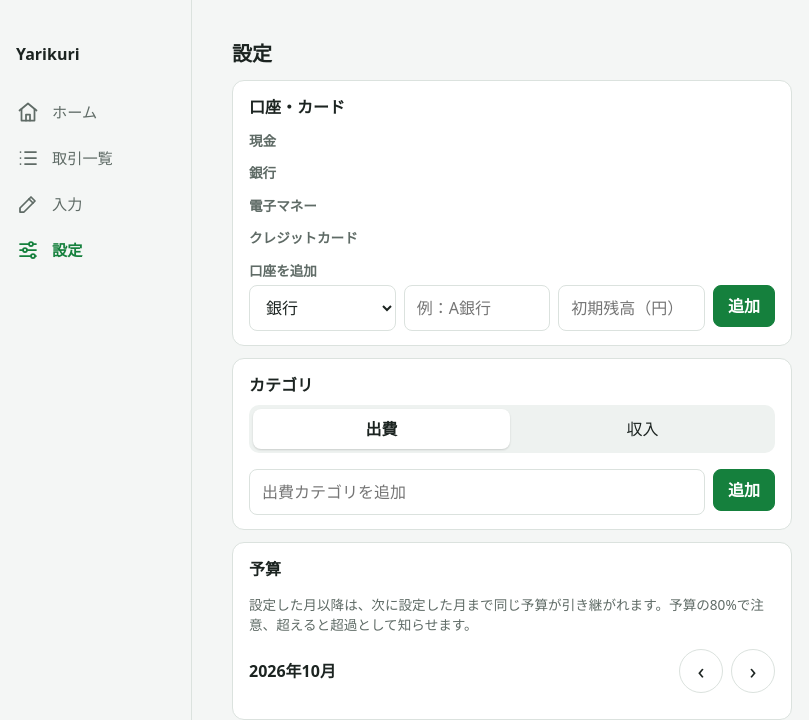
口座管理 › 名前が空の口座は登録できない
Click the 1st button "追加" at (744, 306), box [713,285,775,327]
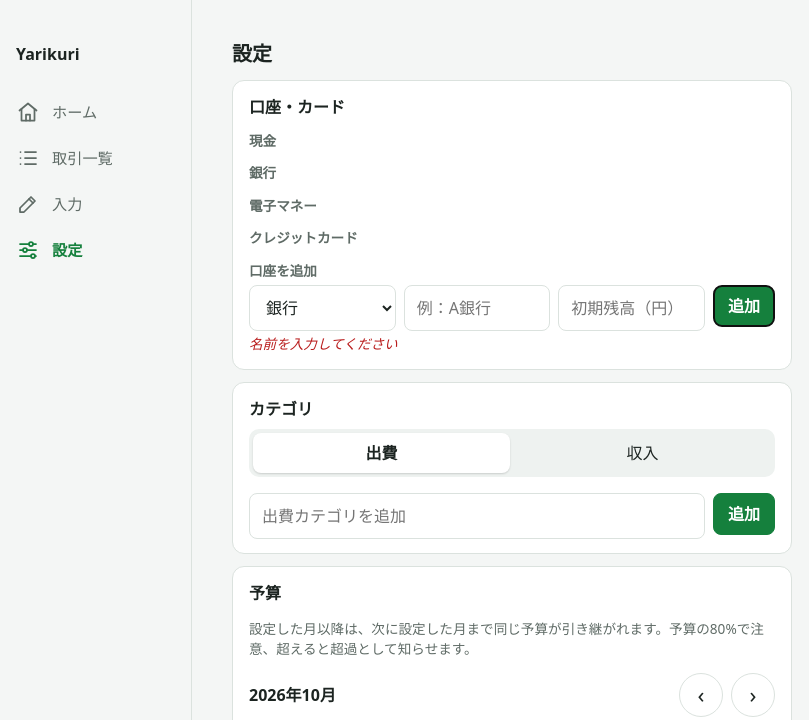
Result: the message reads "名前を入力してください" at [249,334,398,353]
